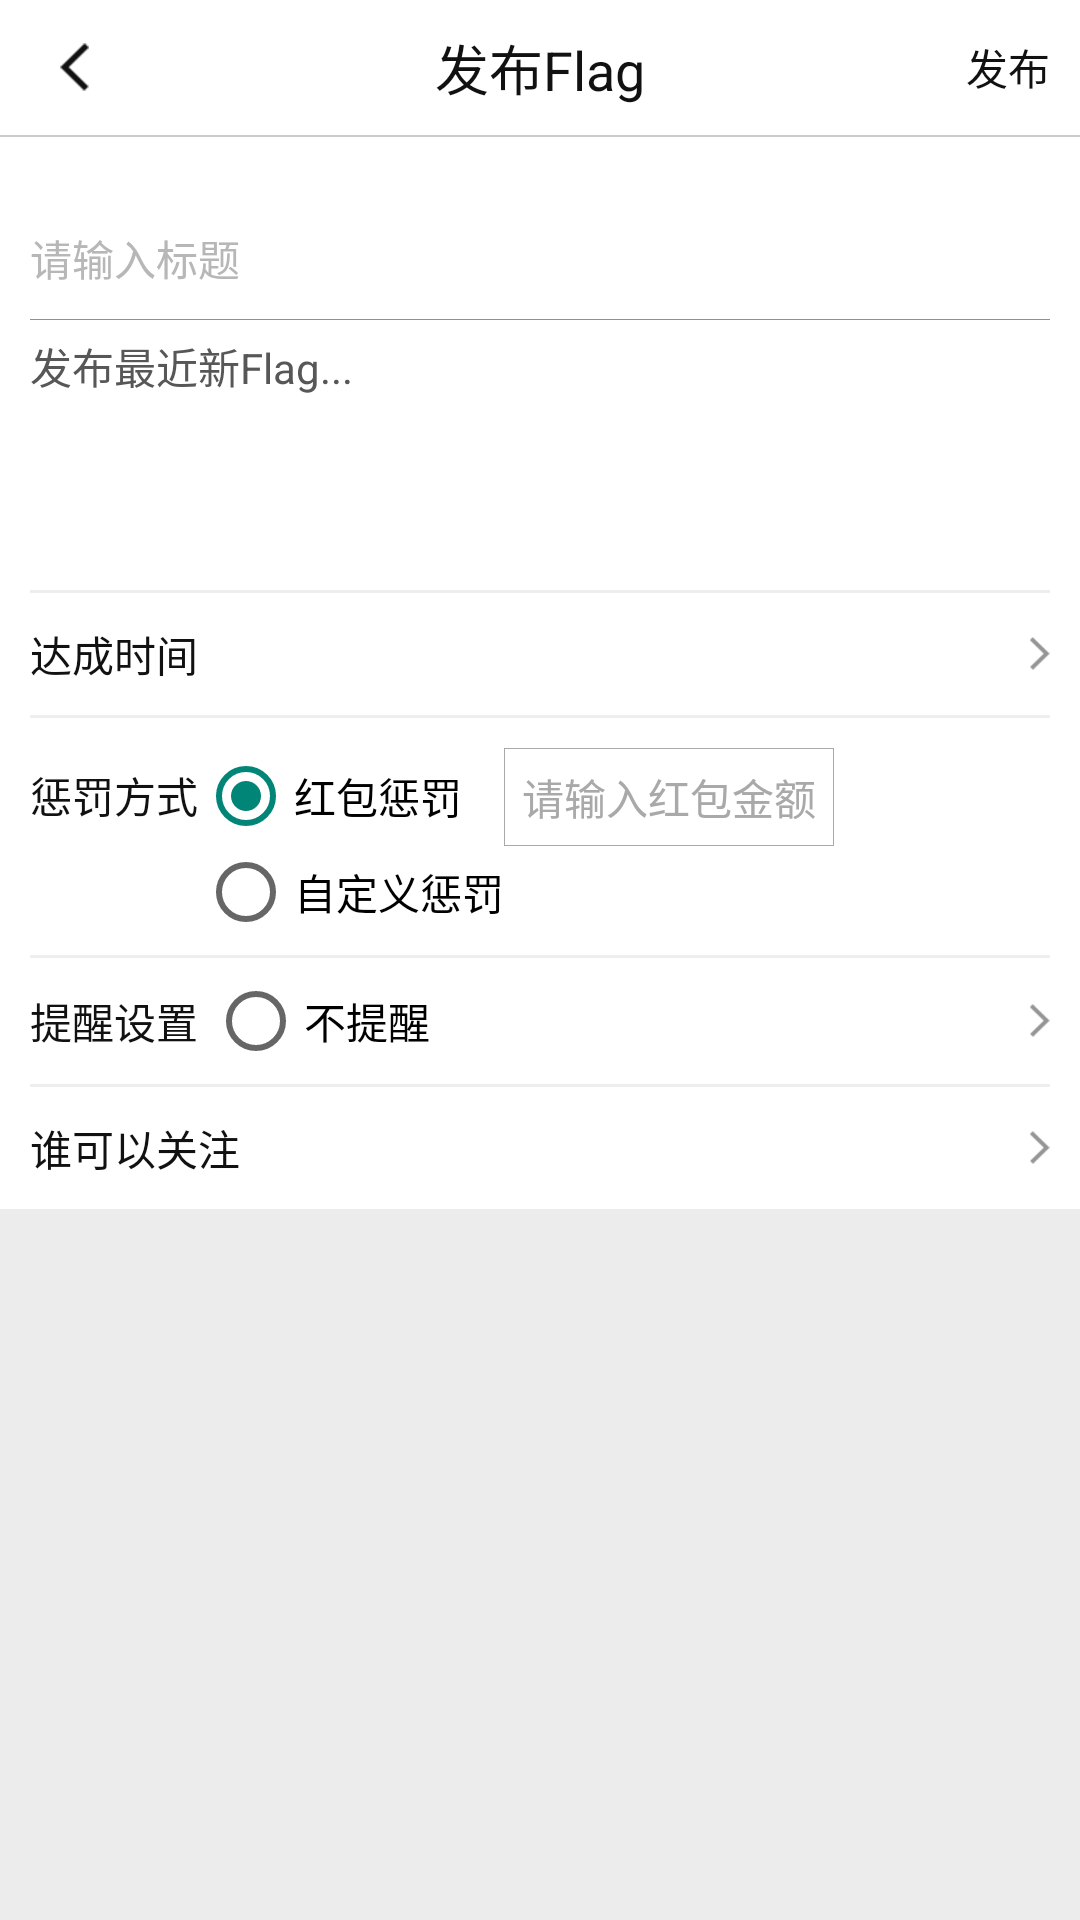

Icon click points for this 1080 × 1920 phone screenshot, format (x,y):
fanhui: (74,67)
